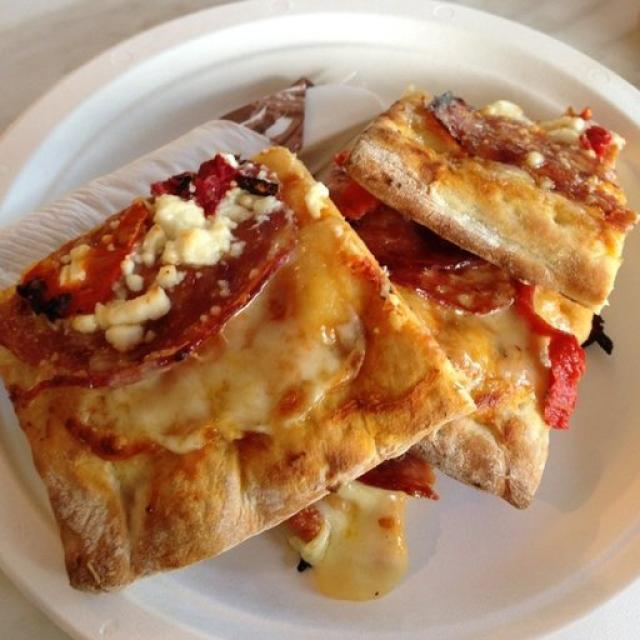Cheese: (157, 359, 344, 421), (305, 494, 417, 594)
Pepperoni: (121, 251, 280, 350), (362, 214, 514, 307)
Pizza: (0, 84, 638, 602)
Tomato: (35, 230, 137, 304)
